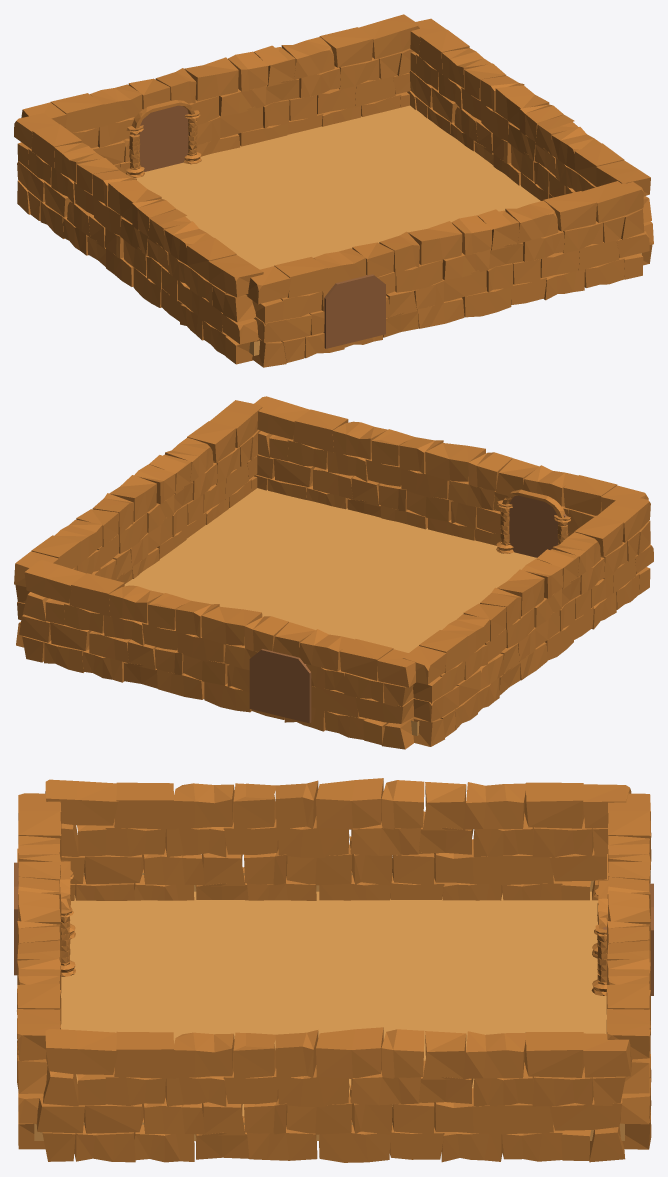
3 renders of one model, top to bottom at view 1: azimuth 30°, elevation 25°; view 2: azimuth 150°, elevation 25°; view 3: azimuth 270°, elevation 25°, orthographic. The views are drawn at different scales.
Parts seen in each view (by area): view 1: Cube.030; view 2: Cube.030; view 3: Cube.030.
Part boxes in pixels (<box>): Cube.030: <box>14,14,653,367</box>; Cube.030: <box>14,396,653,749</box>; Cube.030: <box>14,778,653,1162</box>.
Size of the model in its own units: 11.02 by 2.26 by 11.12.
